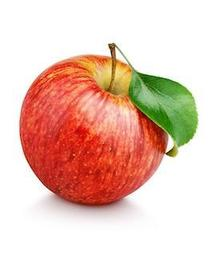apple: (18, 53, 172, 205)
